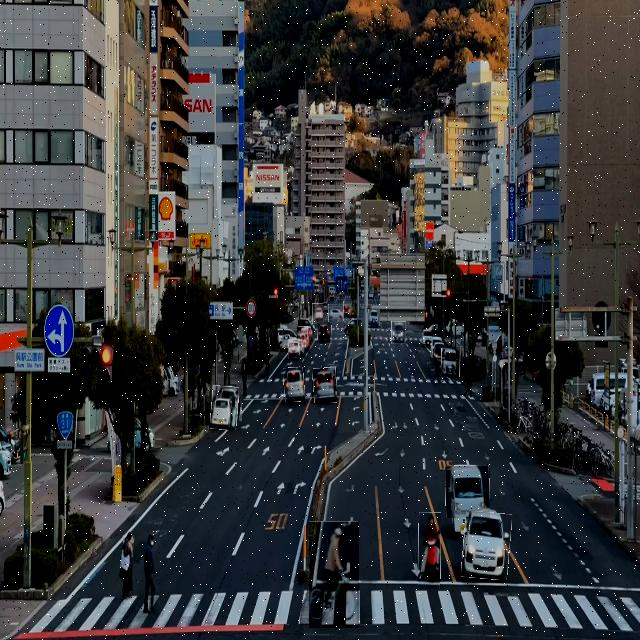Car: (463, 512, 511, 580), (446, 466, 490, 518), (211, 386, 239, 429), (312, 368, 337, 403), (283, 368, 305, 402), (442, 346, 460, 378), (317, 320, 332, 344), (391, 321, 406, 344), (328, 304, 343, 322), (288, 339, 300, 359), (312, 303, 323, 324), (368, 310, 380, 328), (298, 326, 308, 347), (343, 301, 352, 321)
Motorcycle: (310, 521, 360, 628), (419, 512, 441, 589)
